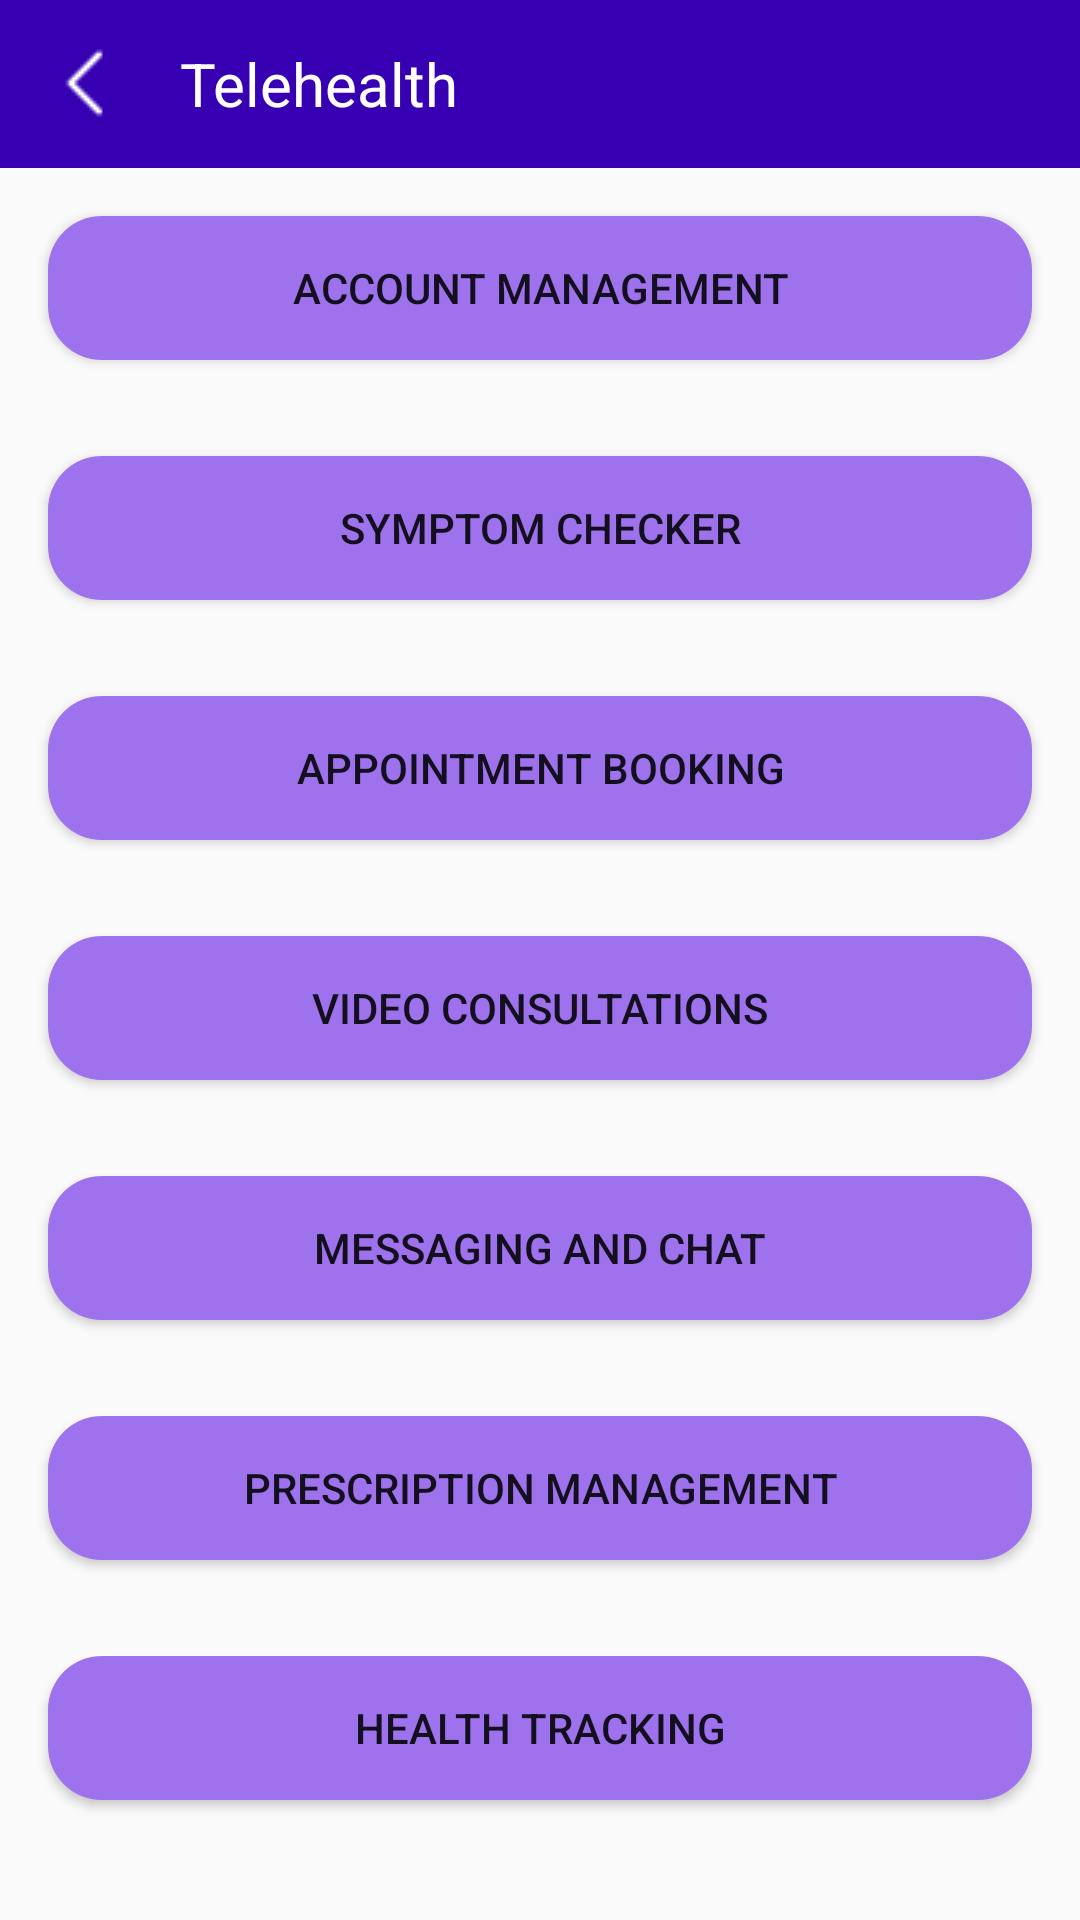

Icons on this 1080w x 1920h Android screen, each with its box as (x1, y1, x2, y2):
left arrow: (65, 50, 103, 117)
